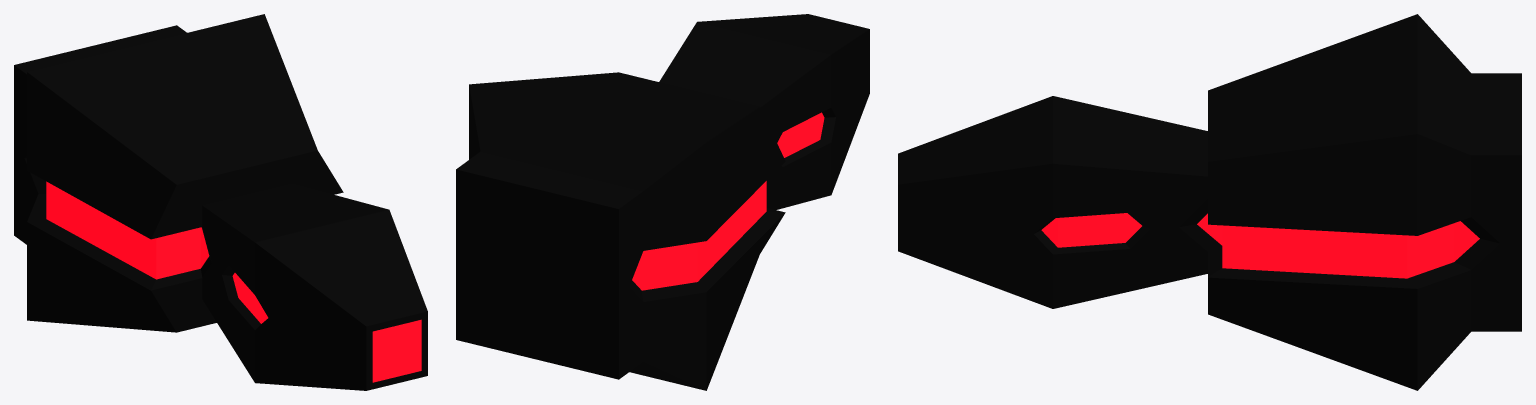
File: HandCannon.fbx
3 renders of one model, left to right at view 1: azimuth 30°, elevation 25°; view 2: azimuth 150°, elevation 25°; view 3: azimuth 270°, elevation 25°, orthographic. The views are drawn at different scales.
Visible parts, largest first — view 1: Cube; view 2: Cube; view 3: Cube.
Part boxes in pixels (bbox=[...]): Cube: bbox=[14, 14, 427, 390]; Cube: bbox=[456, 14, 869, 390]; Cube: bbox=[898, 14, 1521, 390].
Size of the model in its own units: 200 by 200 by 440.
